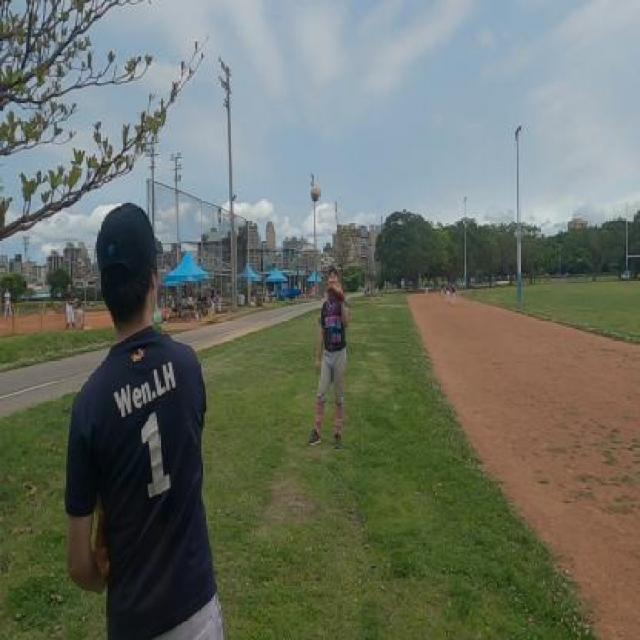baseball: (311, 184, 320, 202)
